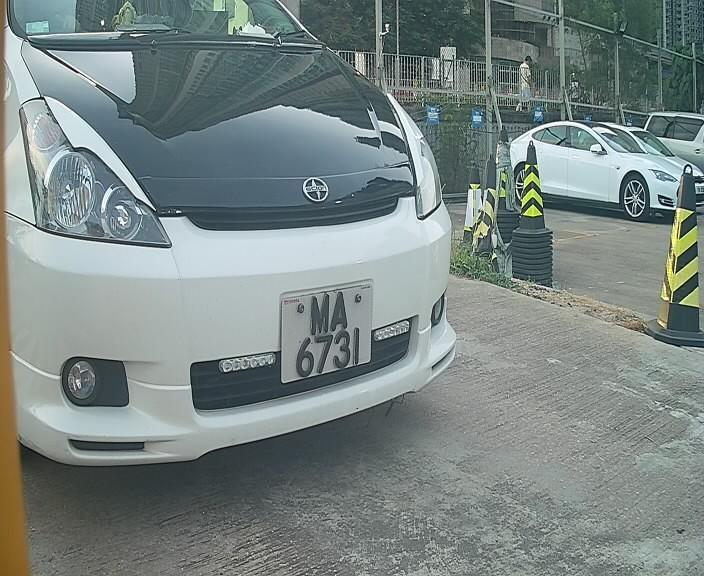License Plate: (261, 273, 381, 394)
